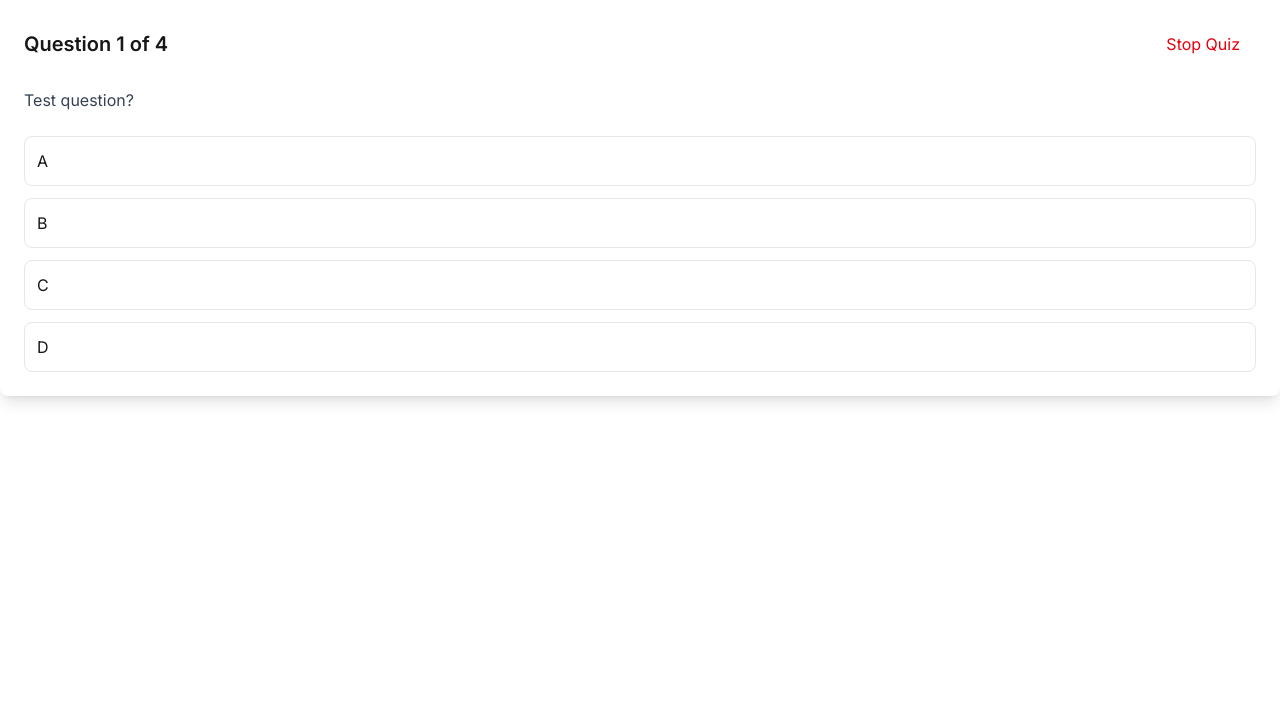
Test: QuizQuestion › shows explanation after selecting an answer
Expected: the text "Test explanation" is not shown
Click the button "B" at (42, 223), box x1=24 y1=198 x2=1256 y2=248
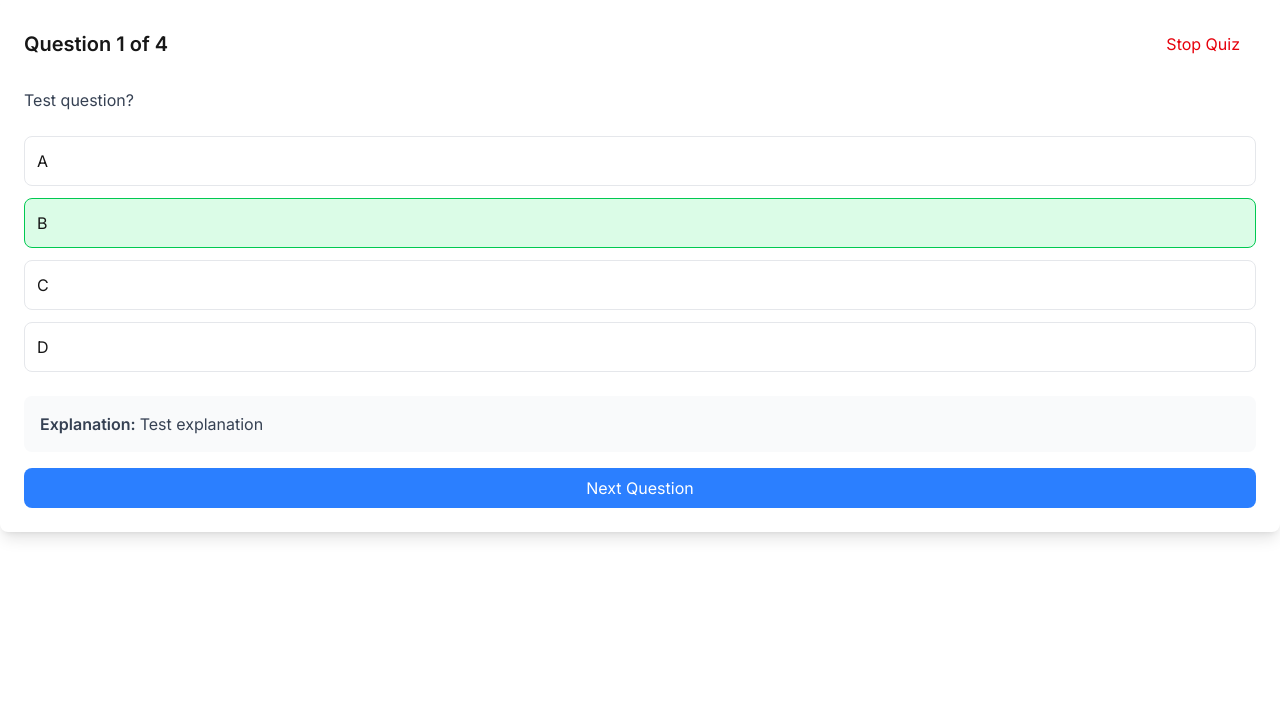
Expected: the text "Test explanation" is shown, x1=140 y1=414 x2=263 y2=434
